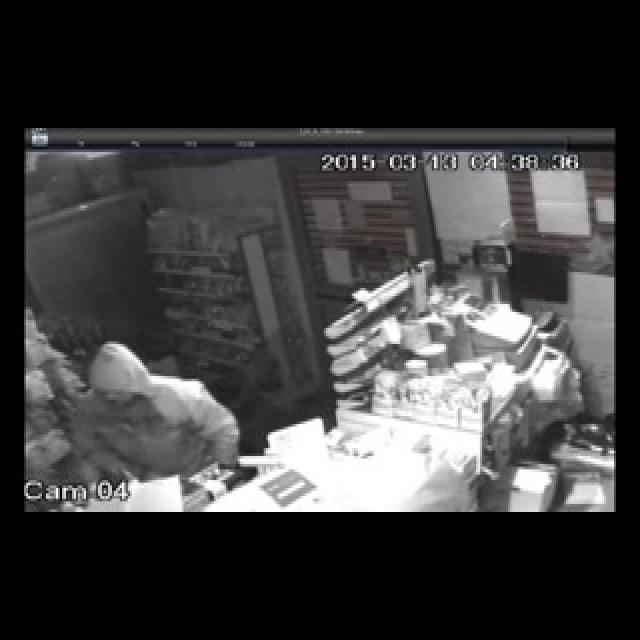thief: (82, 338, 242, 469)
